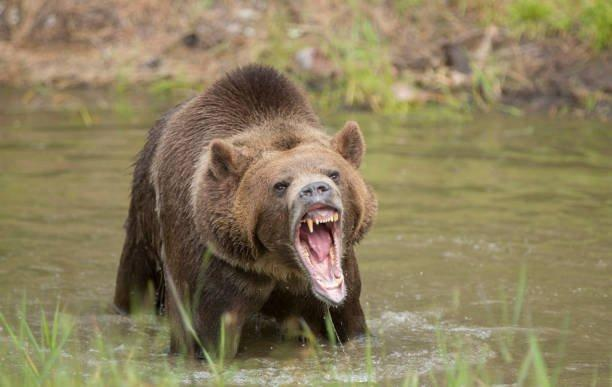bear: (116, 66, 378, 363)
